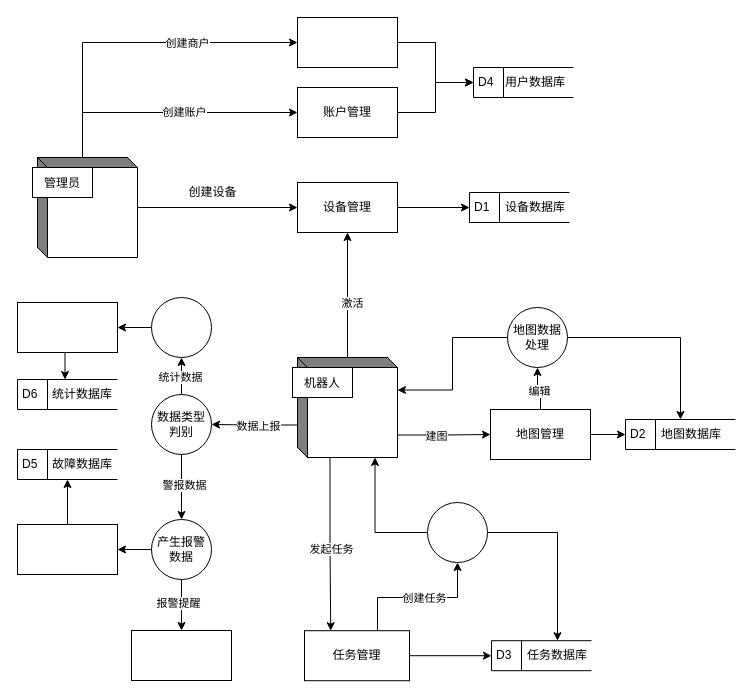
Image size: 753x699. Some labels were removed from this diagram. The centre of each missing label's shape, as x and y in pixels:
"产生统计数据" goes at (181,327).
"仪表盘" goes at (67,327).
"任务数据处理" goes at (457,532).
"商户管理" goes at (347,42).
"故障管理" goes at (67,549).
"浏览器、手机、邮箱" goes at (181,655).
